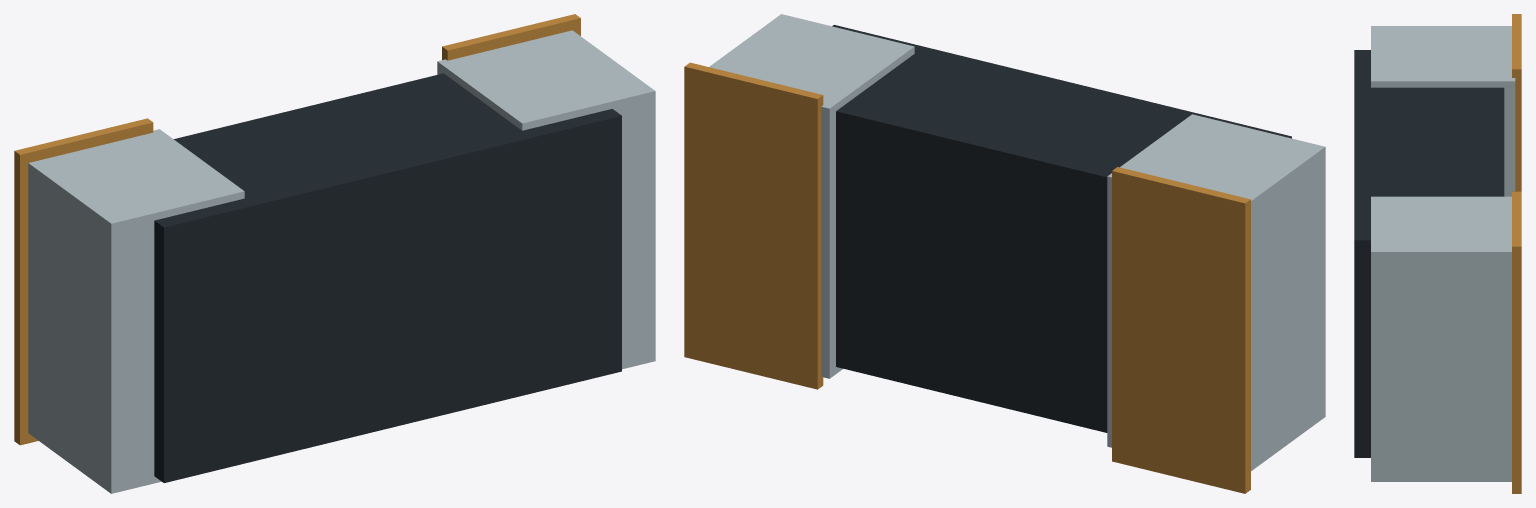
3 renders of one model, left to right at view 1: azimuth 30°, elevation 25°; view 2: azimuth 150°, elevation 25°; view 3: azimuth 270°, elevation 25°, orthographic. The views are drawn at different scales.
Visible parts, largest first — view 1: FB4; view 2: FB4; view 3: FB4.
Part boxes in pixels (x1,y1,x2,y2): FB4: (14, 14, 655, 493); FB4: (684, 14, 1325, 493); FB4: (1354, 14, 1521, 493).
Size of the model in its own units: 0.00202 by 0.001 by 0.000613.
